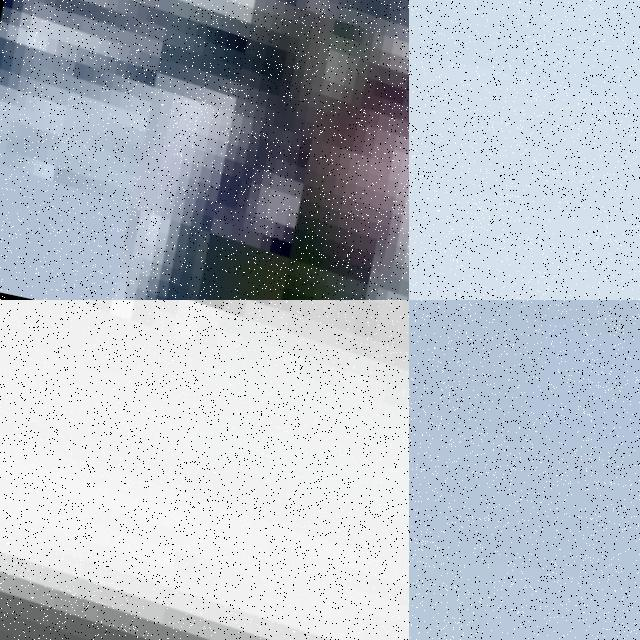0: (0, 0, 409, 300)
drone: (0, 300, 409, 640)
